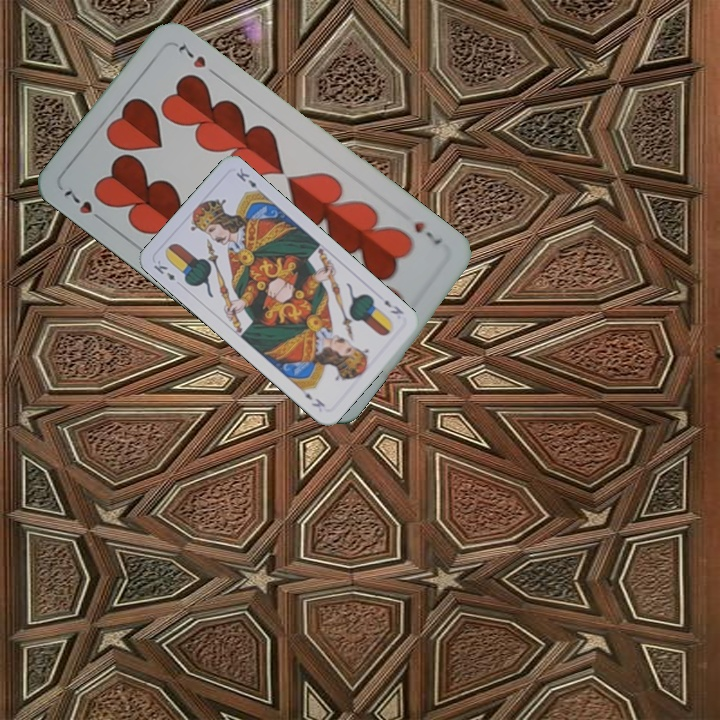EK: (150, 256, 178, 283), (380, 295, 406, 317)
H7: (59, 185, 109, 226), (410, 217, 445, 248)
